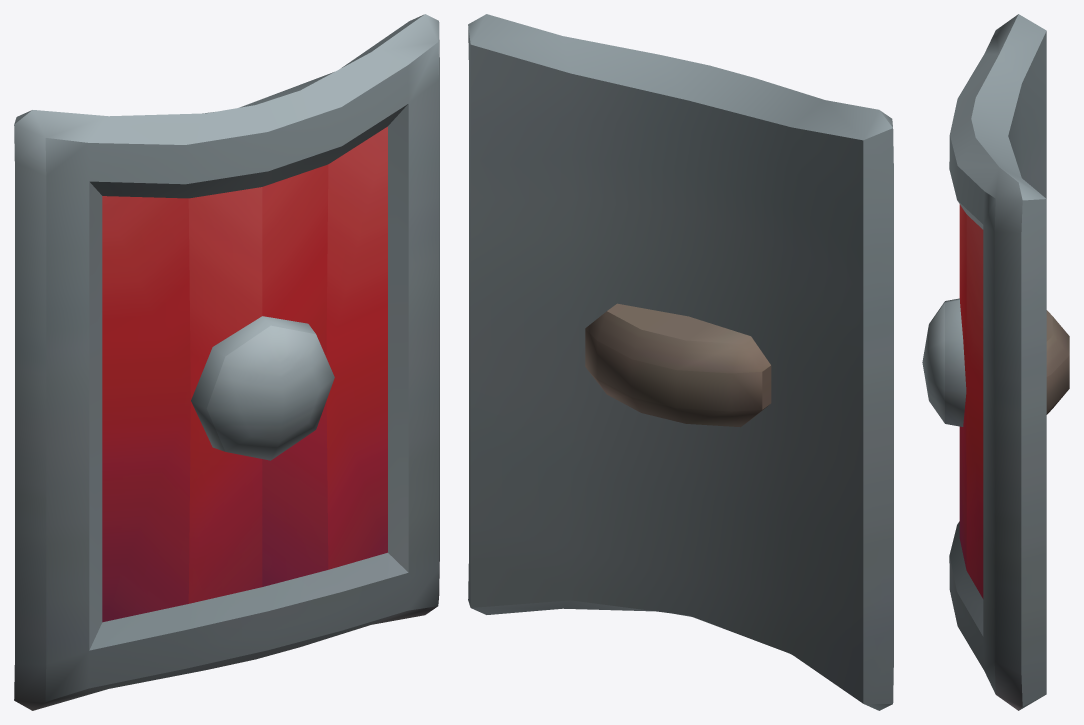
Rendered from shield_square_color.glb.
3 renders of one model, left to right at view 1: azimuth 30°, elevation 25°; view 2: azimuth 150°, elevation 25°; view 3: azimuth 270°, elevation 25°, orthographic. The views are drawn at different scales.
Visible parts, largest first — view 1: shield_square_color; view 2: shield_square_color; view 3: shield_square_color.
Boxes of the visible parts, x1,y1,x2,y2 form: shield_square_color: [14, 14, 439, 710]; shield_square_color: [468, 14, 893, 710]; shield_square_color: [922, 14, 1069, 710].
Bounding box in the file's own units: 0.8825 × 1.19 × 0.301.
1 material, 1 textured.
